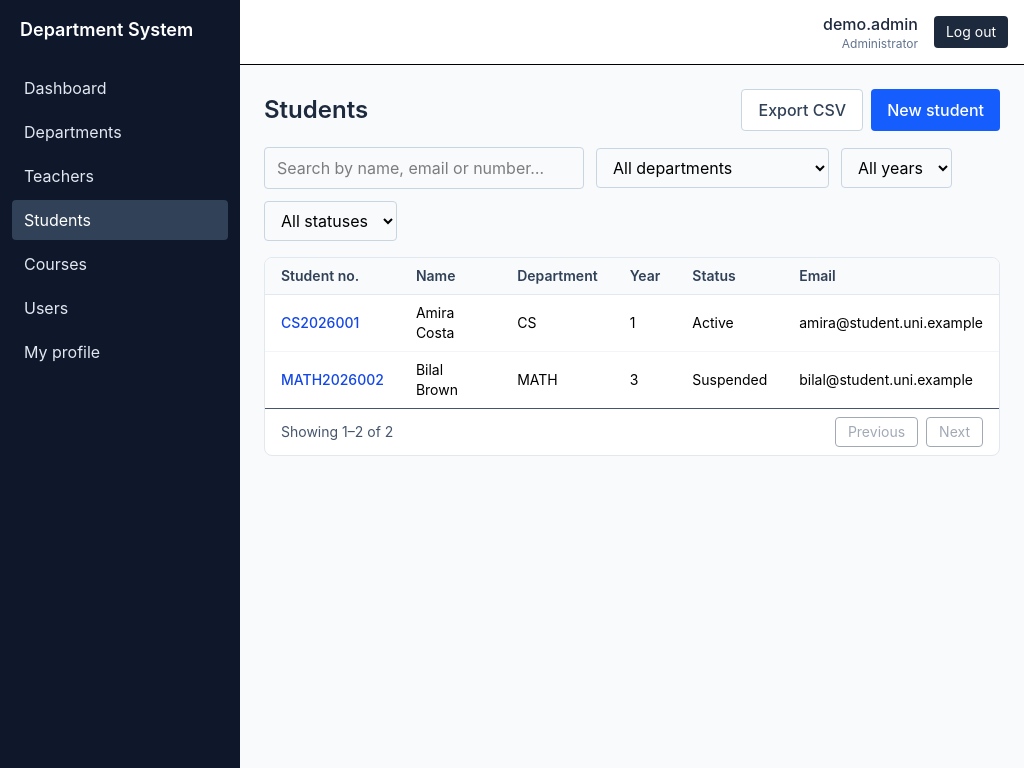
Test: FR-4.1–4.3 create (with every FR-4.2 field and an optional account) › shows the 409 "A student with email 'nina@student.uni.example' already exists" under its field
Click the button "New student" at coordinates (936, 110), box [871,89,1000,131]
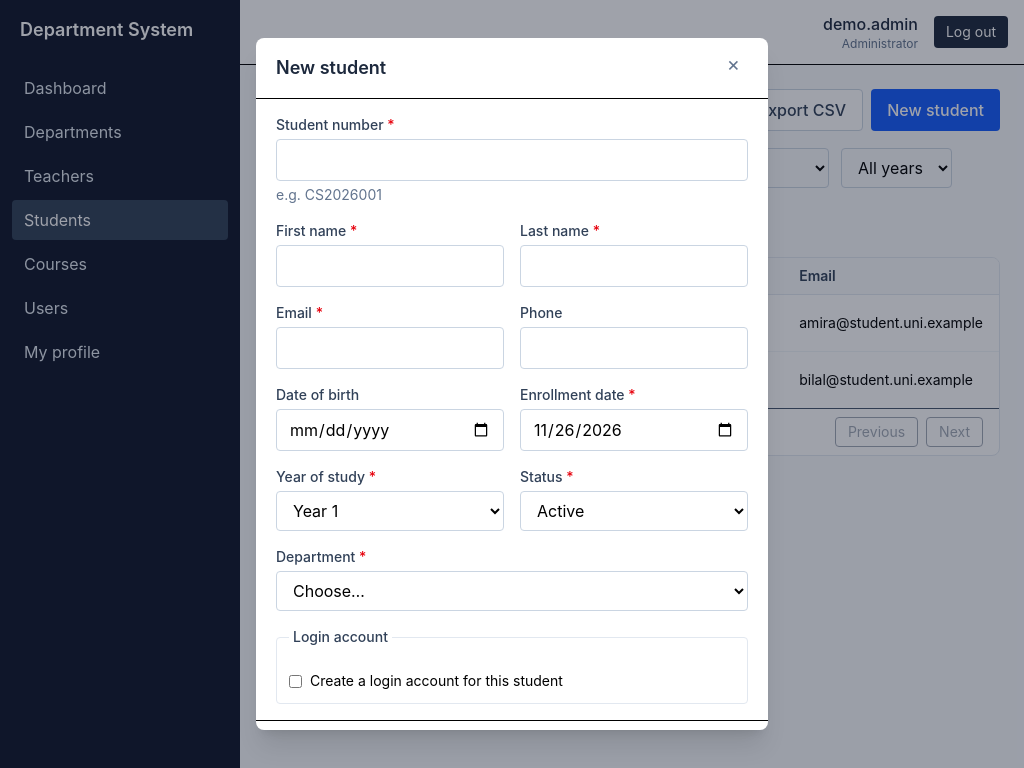
Type "CS2026050" into the field labelled "Student number *" at coordinates (512, 160), box [276,139,748,181]
Type "Nina" into the field labelled "First name *" at coordinates (390, 266), box [276,245,504,287]
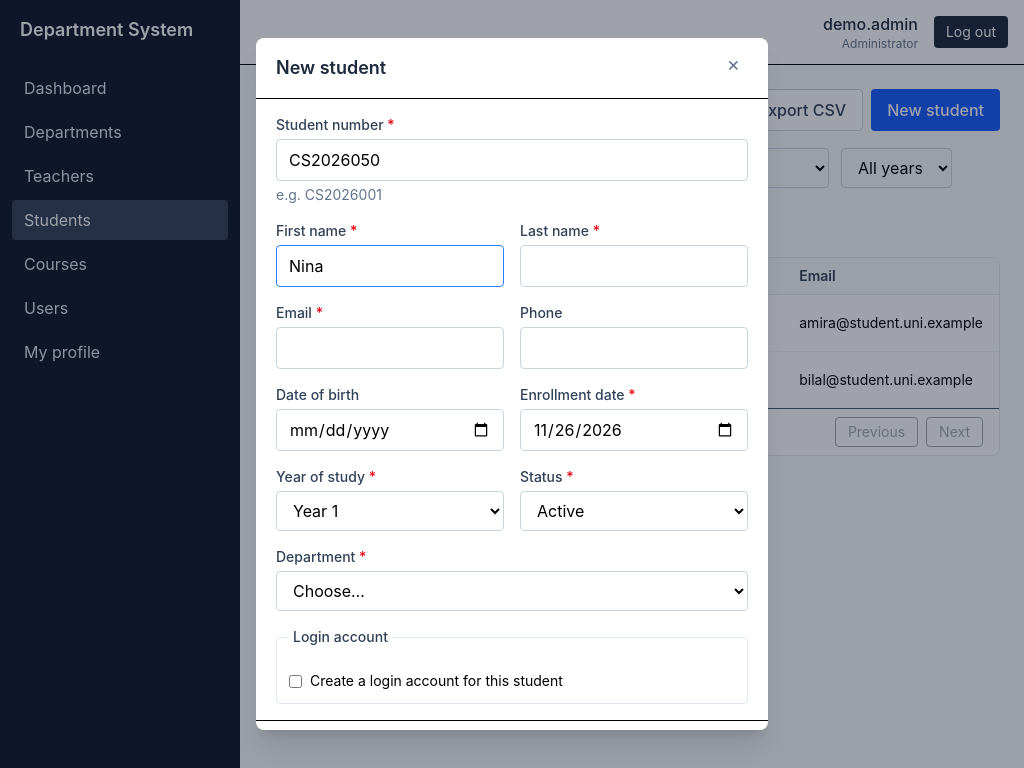
Type "New" into the field labelled "Last name *" at coordinates (634, 266), box [520,245,748,287]
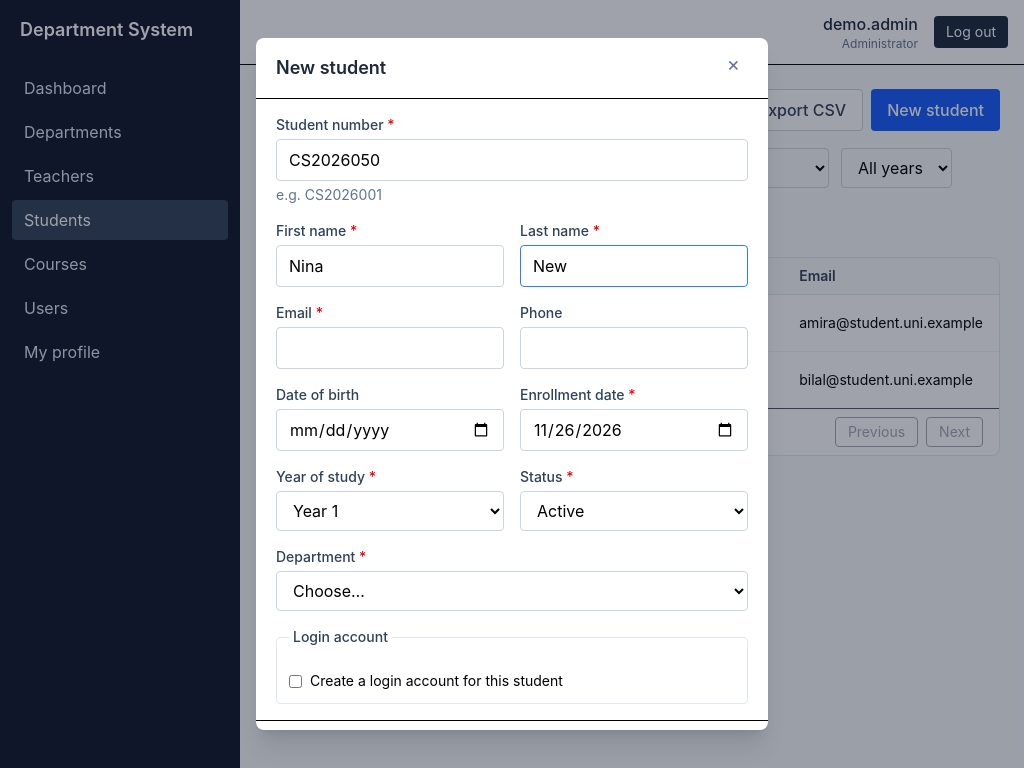
Type "nina@student.uni.example" into the field labelled "Email *" at coordinates (390, 348), box [276,327,504,369]
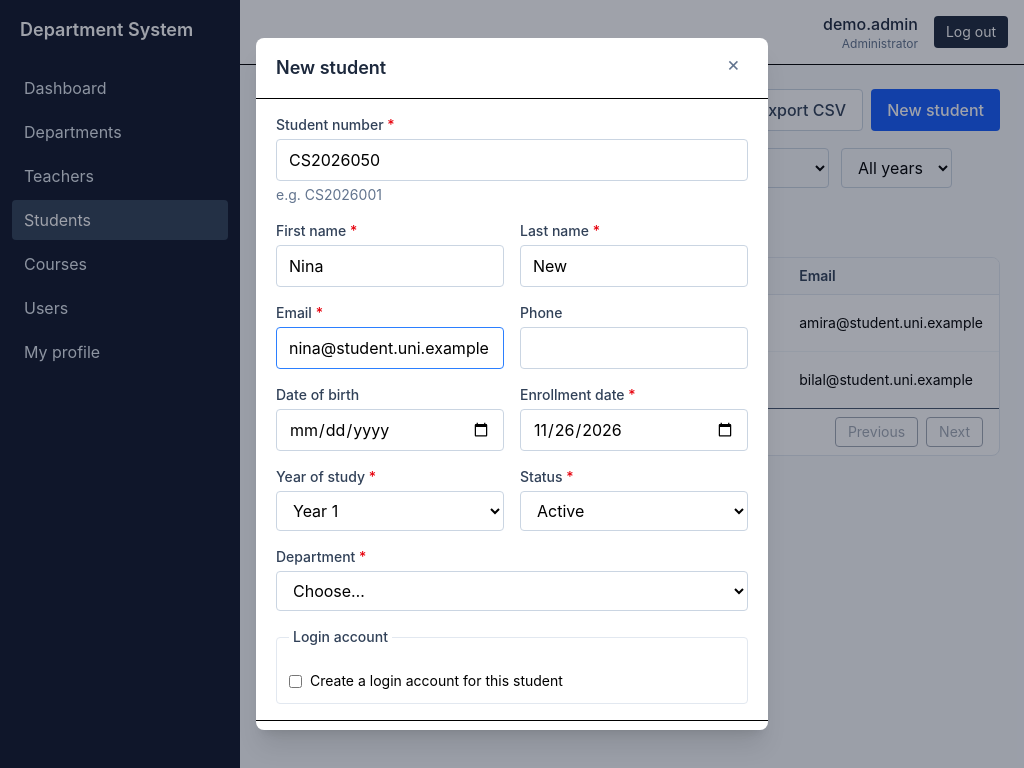
Select "CS — Computer Science" in the dropdown labelled "Department *" at coordinates (512, 591), box [276,571,748,611]
(page scrolled)
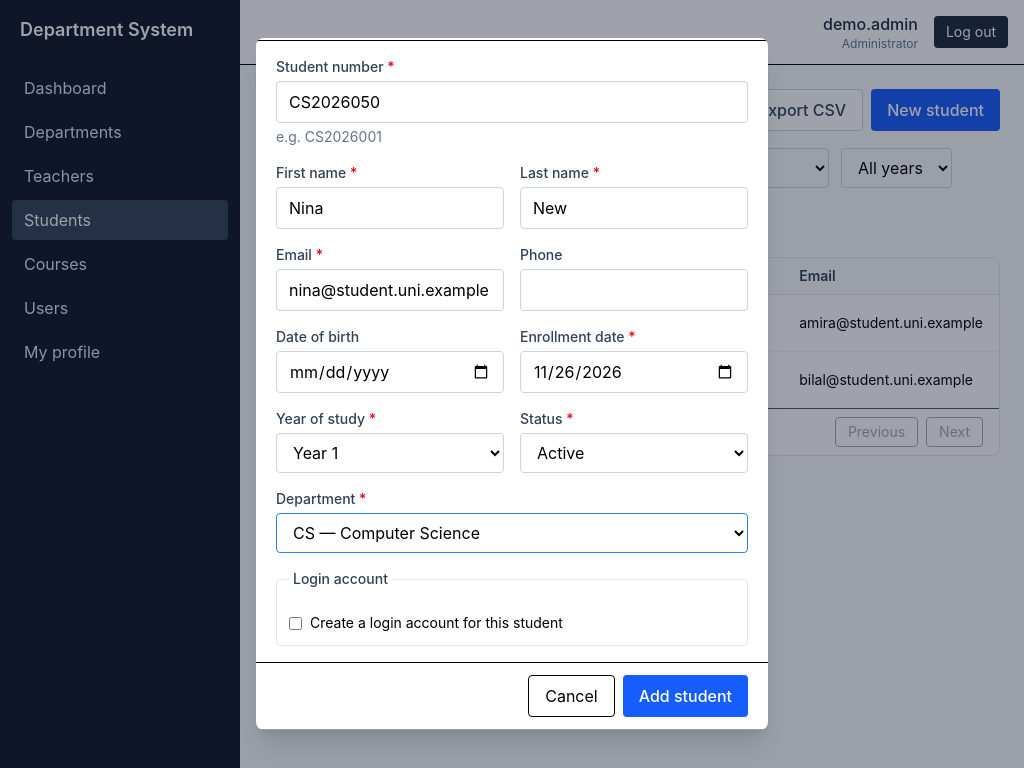
Click the button "Add student" at coordinates (685, 696), box [623,675,748,717]
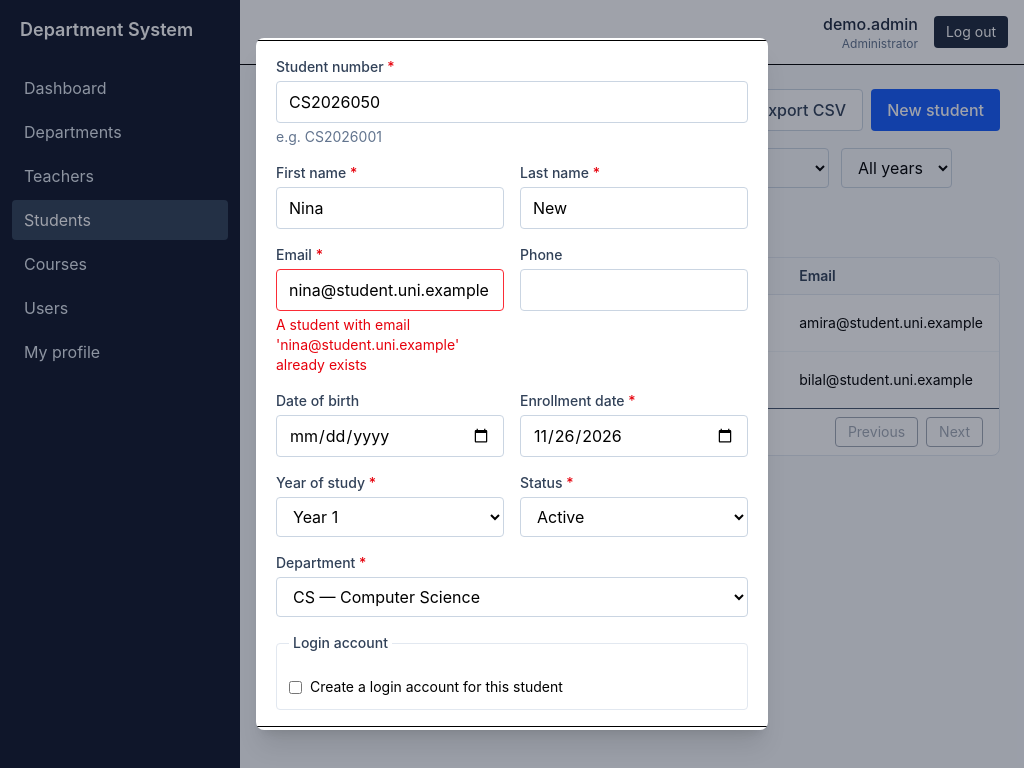
Expected: the text "A student with email 'nina@student.uni.example' already exists" is shown, [276,316,459,373]
